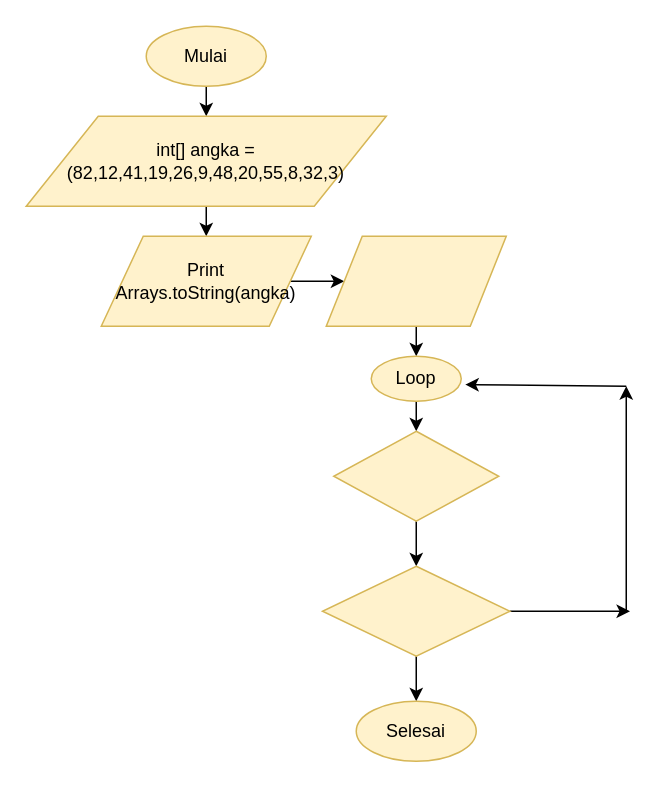
The diagram is 669 pixels wide and 788 high, and some of its shapes have lost their labels. Here are the shapes that lost their labels. From the top down, the box of each, then its label:
(325, 235, 506, 326): Print angka ganjil yang diapit oleh angka genap pada array
(332, 430, 499, 521): int indeks=0; indeks < angka; indeks++
(321, 565, 510, 656): if angka[indeks] % 2 == 1
